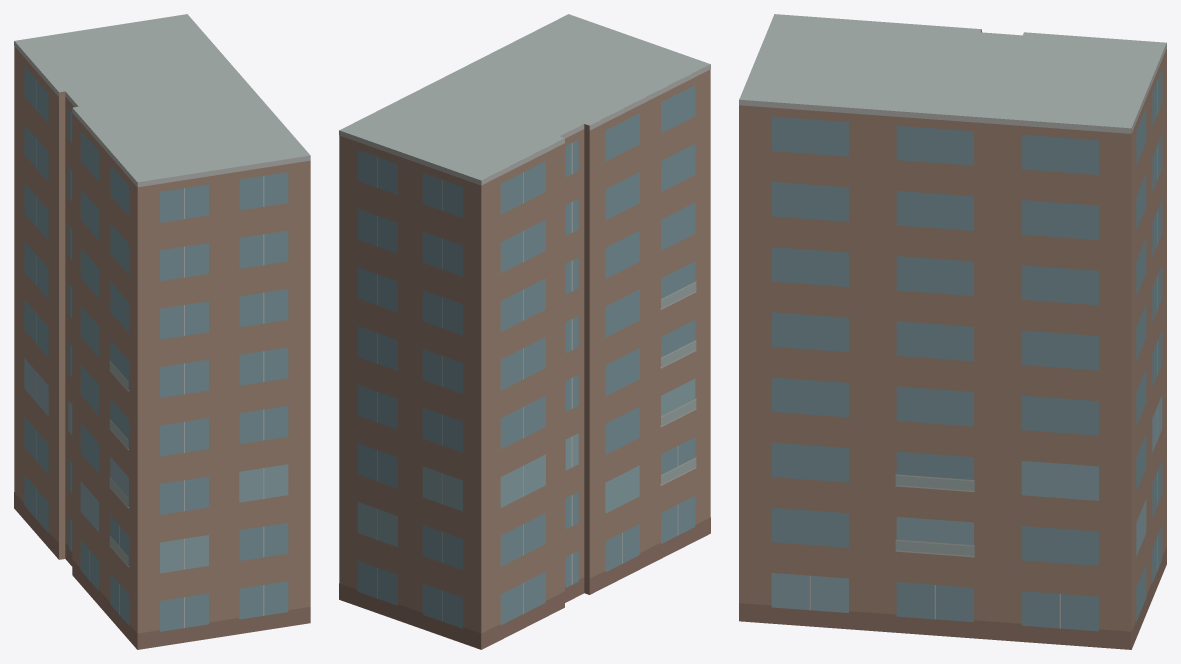
Rendered from survey-upis-32554545.glb.
The picture shows the model from 3 angles, left to right: view 1: azimuth 30°, elevation 25°; view 2: azimuth 150°, elevation 25°; view 3: azimuth 270°, elevation 25°; orthographic projection. The views are drawn at different scales.
Parts seen in each view (by area): view 1: survey-upis-32554545.tmp; view 2: survey-upis-32554545.tmp; view 3: survey-upis-32554545.tmp.
Boxes of the visible parts, x1,y1,x2,y2 form: survey-upis-32554545.tmp: (14, 14, 310, 649); survey-upis-32554545.tmp: (339, 14, 710, 649); survey-upis-32554545.tmp: (739, 14, 1166, 649).
Size of the model in its own units: 10.78 by 22.9 by 17.03.
